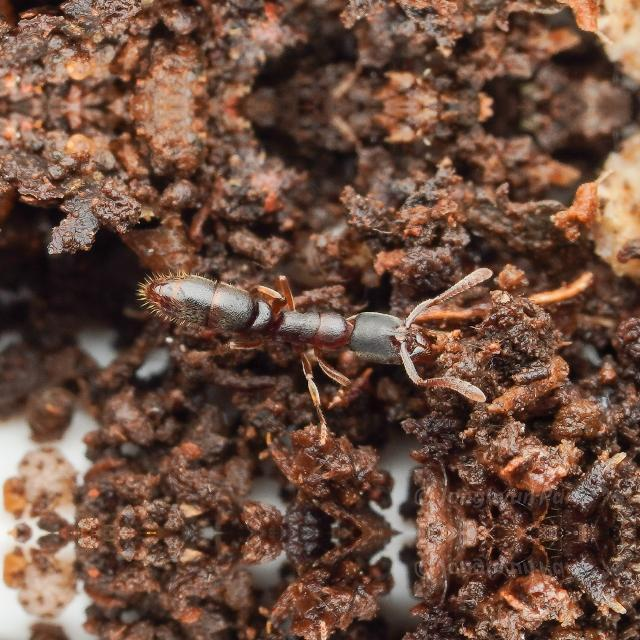Ponera: (137, 226, 493, 419)
